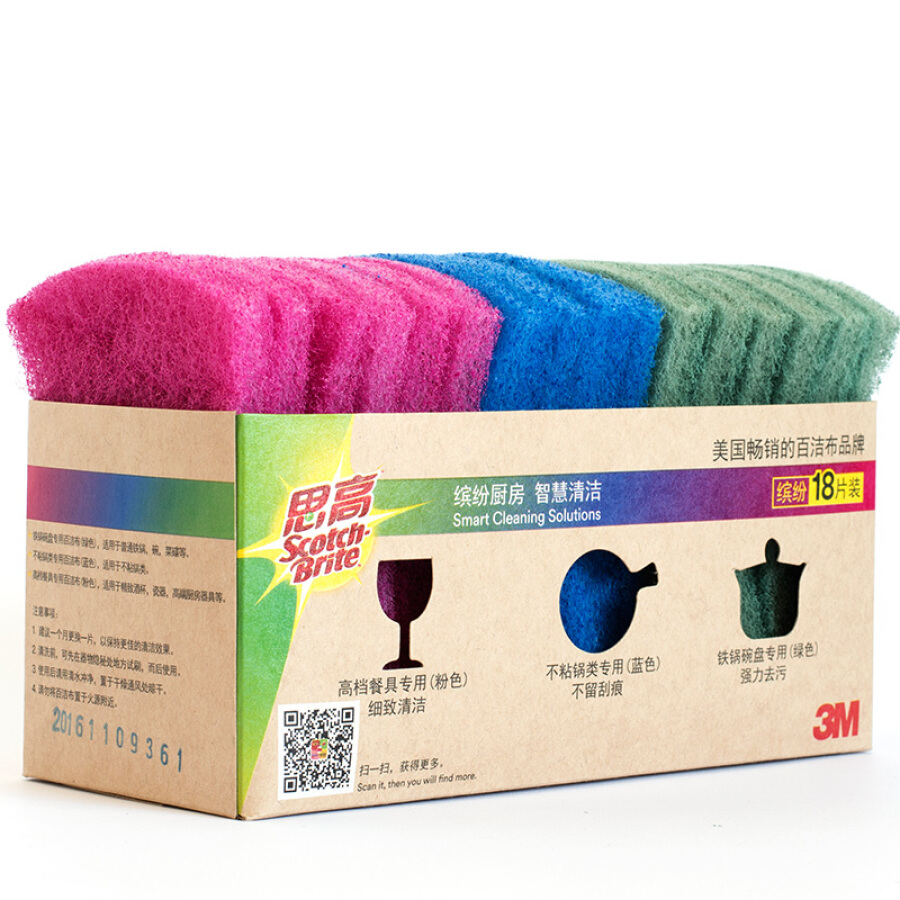3M: (807, 691, 865, 749)
